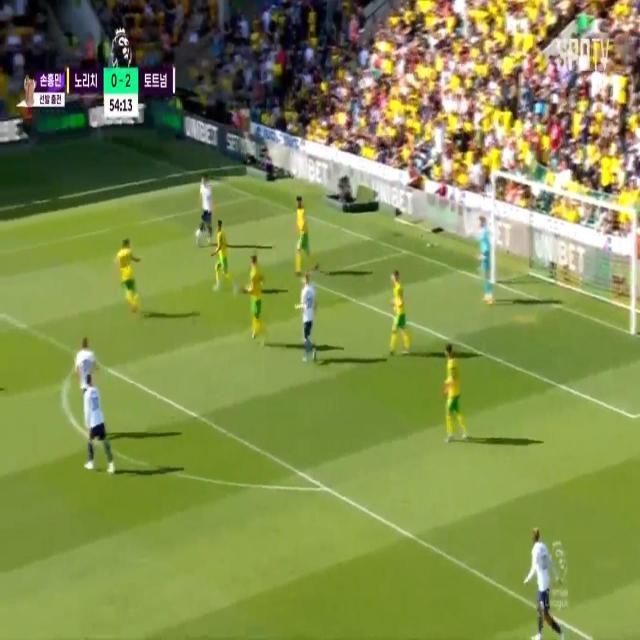ball: (193, 222, 202, 244)
goalkeeper: (472, 200, 502, 319)
player: (524, 527, 554, 640), (80, 370, 111, 465), (63, 333, 101, 403), (295, 269, 322, 364), (439, 341, 462, 445), (113, 235, 139, 323), (385, 263, 410, 349), (244, 252, 266, 346), (193, 170, 215, 243), (293, 189, 309, 279), (210, 218, 226, 288)
